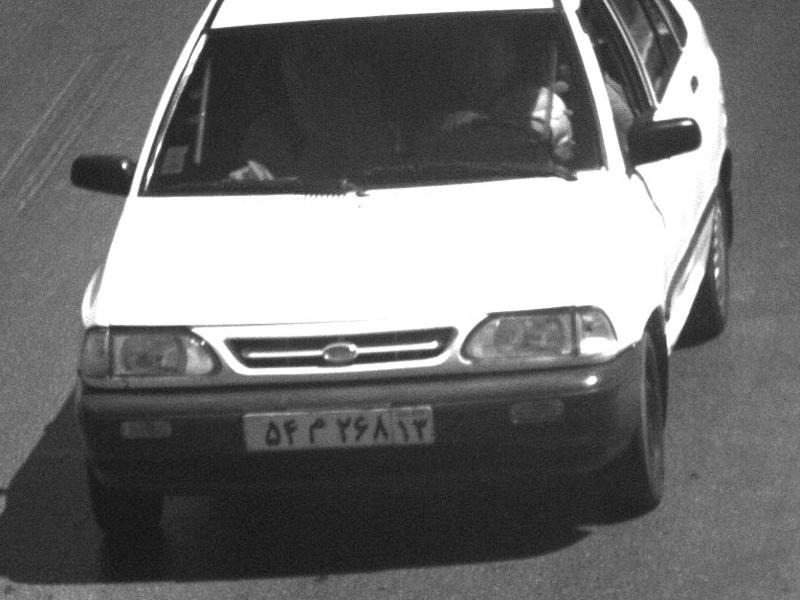Plate: (242, 408, 434, 449)
